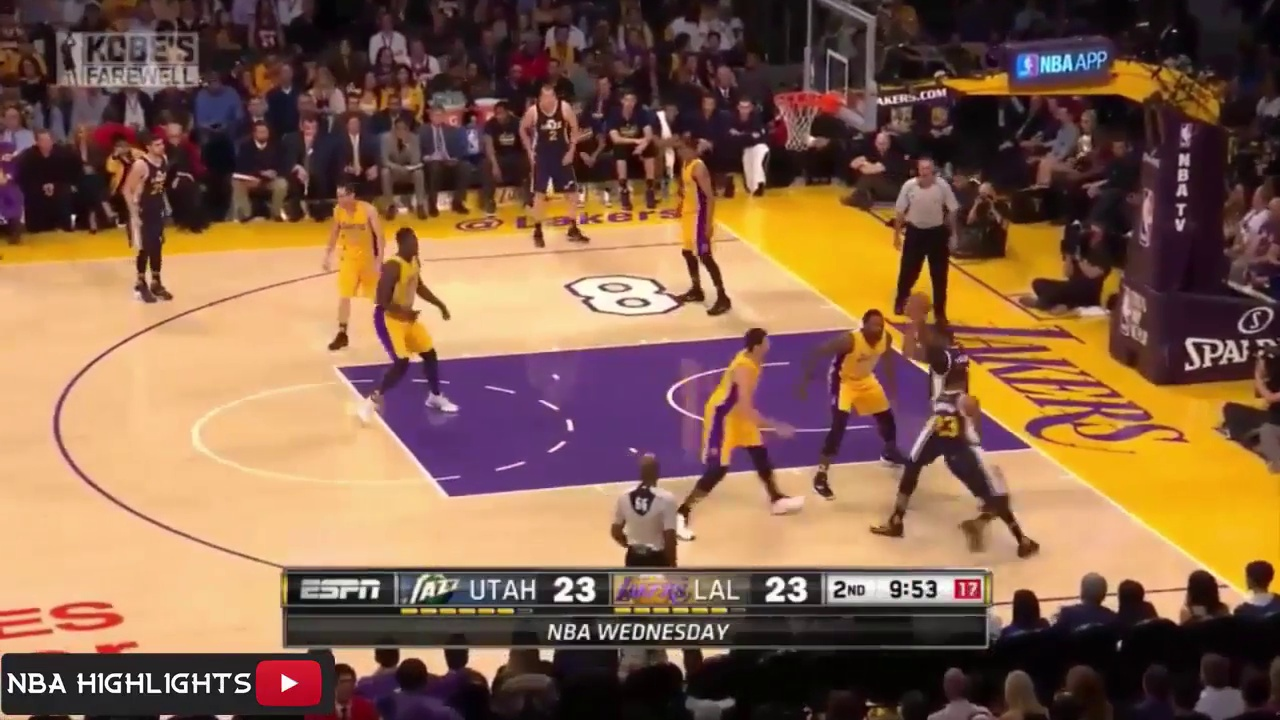jazz: (934, 372, 1035, 558), (522, 83, 597, 257), (123, 132, 190, 307), (913, 315, 974, 439)
lakers: (683, 319, 795, 536), (806, 305, 909, 506), (362, 227, 464, 426), (668, 141, 744, 324), (323, 180, 387, 347)
